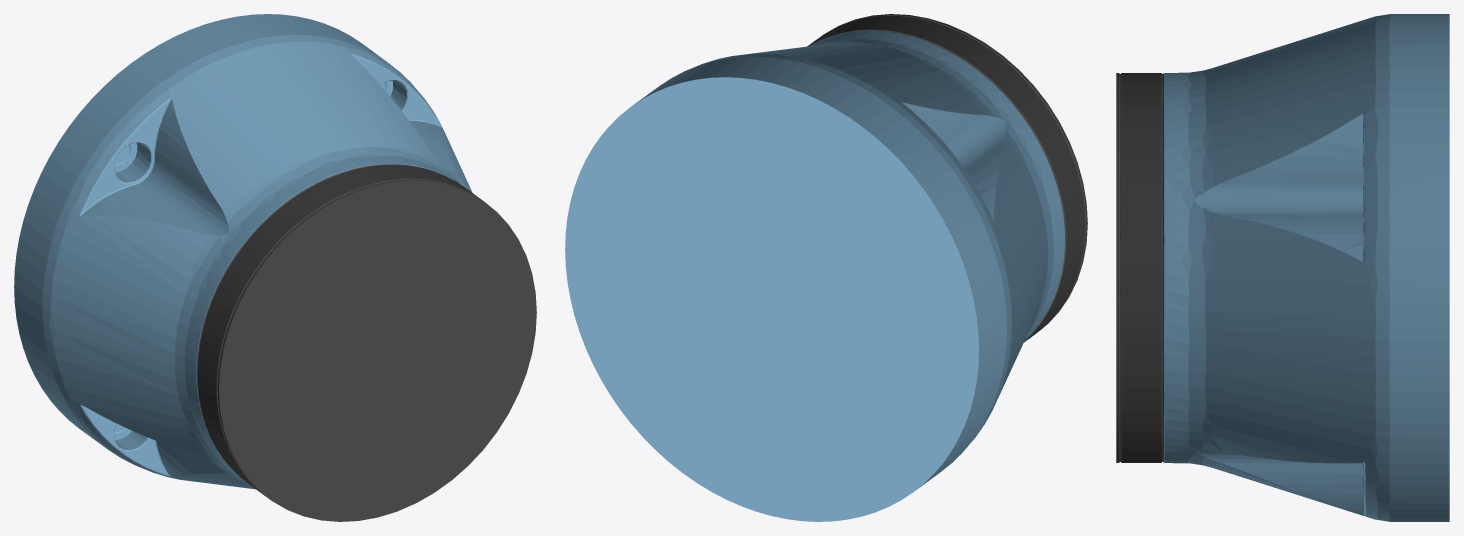
3 views of the same model, side by side, from view 1: azimuth 30°, elevation 25°; view 2: azimuth 150°, elevation 25°; view 3: azimuth 270°, elevation 25° (orthographic). The views are drawn at different scales.
Visible parts, largest first — view 1: obj1, obj2; view 2: obj1, obj2; view 3: obj1, obj2.
Boxes of the visible parts, x1,y1,x2,y2 form: obj1: (14, 14, 472, 489); obj2: (196, 164, 536, 521); obj1: (565, 30, 1065, 521); obj2: (807, 14, 1087, 342); obj1: (1164, 14, 1449, 521); obj2: (1116, 73, 1163, 462).
Size of the model in its own units: 0.151 by 0.151 by 0.0991.
